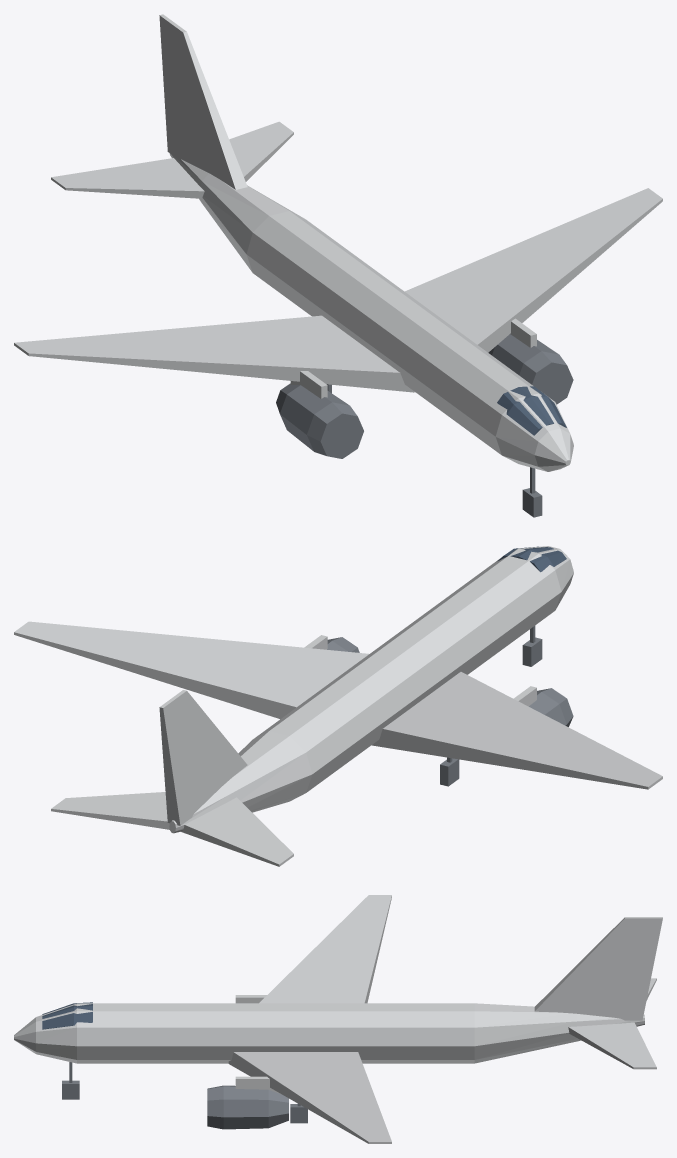
Rendered from widebody-twin.glb.
3 views of the same model, one above another, from view 1: azimuth 30°, elevation 25°; view 2: azimuth 150°, elevation 25°; view 3: azimuth 270°, elevation 25° (orthographic). The views are drawn at different scales.
Visible parts, largest first — view 1: widebody-twin; view 2: widebody-twin; view 3: widebody-twin.
Part boxes in pixels (x1,y1,x2,y2): widebody-twin: [14, 14, 662, 517]; widebody-twin: [14, 546, 662, 866]; widebody-twin: [14, 895, 662, 1143].
Bounding box in the file's own units: 1 × 0.3406 × 1.11.
